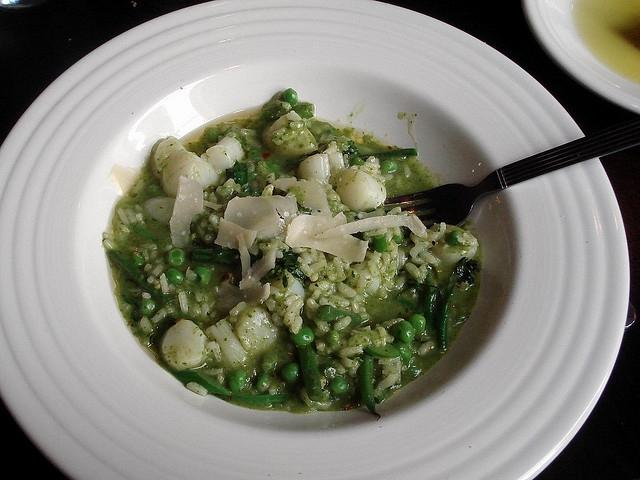pea: (387, 320, 415, 344), (289, 324, 314, 348), (280, 362, 304, 385), (165, 246, 188, 269), (328, 375, 350, 398), (226, 370, 247, 392), (258, 352, 279, 374), (192, 266, 211, 288), (292, 102, 315, 119), (444, 230, 464, 246), (139, 298, 156, 316), (409, 314, 426, 332), (316, 305, 334, 322), (373, 233, 388, 253), (166, 268, 184, 284), (284, 88, 298, 106), (380, 160, 398, 174), (147, 184, 164, 196), (326, 330, 340, 344), (130, 255, 145, 268), (282, 342, 298, 354), (312, 324, 324, 337), (392, 232, 404, 244), (268, 383, 279, 395), (352, 157, 365, 166), (208, 132, 218, 142), (384, 250, 388, 253)
potato: (203, 316, 254, 374), (159, 152, 226, 196), (261, 110, 317, 160), (160, 319, 208, 370), (335, 169, 387, 213), (234, 306, 280, 355), (154, 136, 188, 174), (206, 136, 244, 169), (297, 153, 331, 180), (146, 197, 176, 224), (283, 290, 301, 306)
